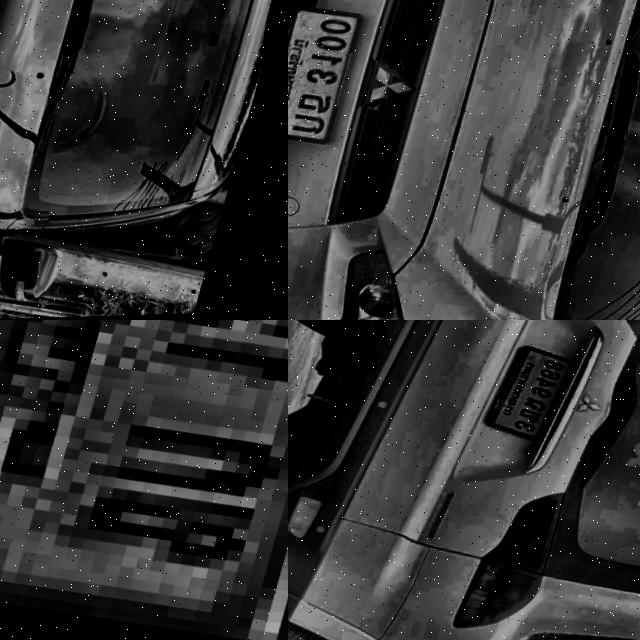license-plate: (0, 320, 288, 640), (288, 0, 376, 150), (482, 338, 588, 448)
